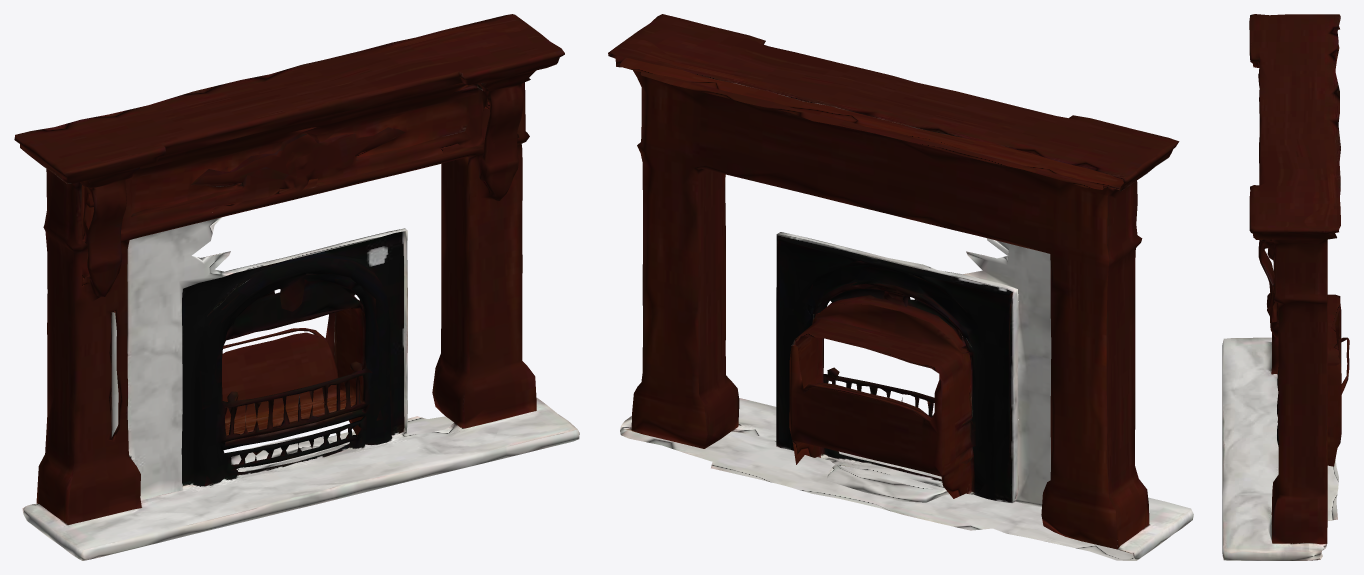
File: chimenea_club.glb
3 views of the same model, side by side, from view 1: azimuth 30°, elevation 25°; view 2: azimuth 150°, elevation 25°; view 3: azimuth 270°, elevation 25° (orthographic). The views are drawn at different scales.
Parts seen in each view (by area): view 1: geometry_0; view 2: geometry_0; view 3: geometry_0.
Boxes of the visible parts, <box> form: geometry_0: <box>14,14,579,560</box>; geometry_0: <box>608,14,1193,560</box>; geometry_0: <box>1222,14,1349,560</box>.
Bounding box in the file's own units: 1.8 × 1.3 × 0.4501.
1 material, 1 textured.
